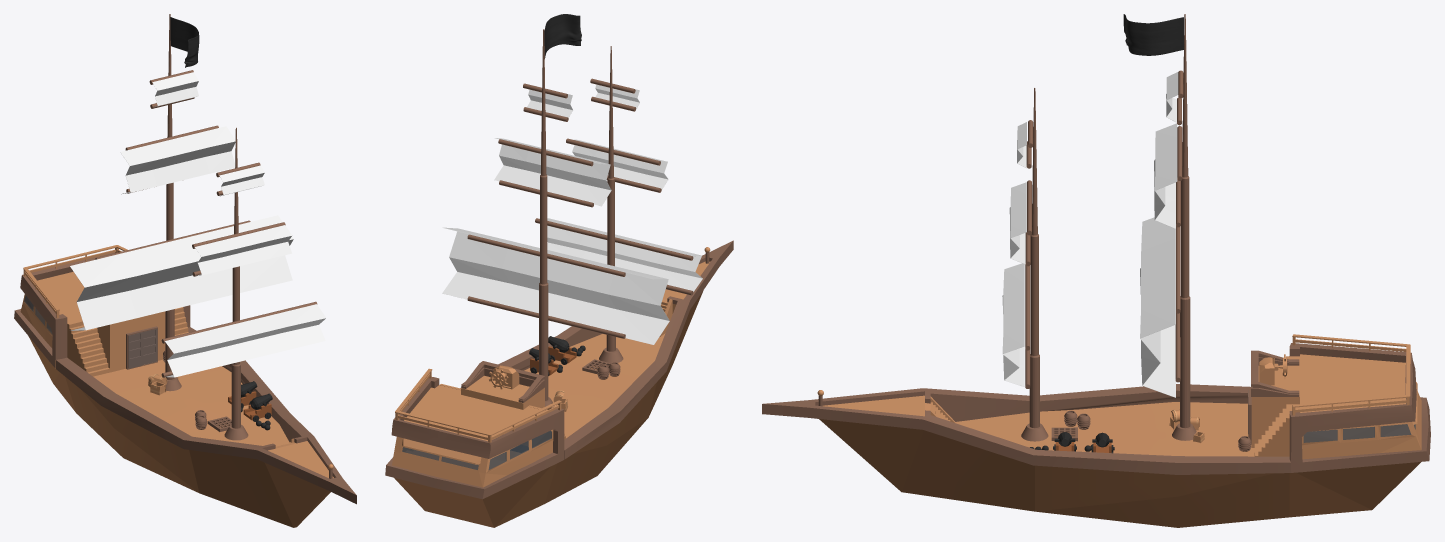
File: Pirateship_folded.fbx
3 renders of one model, left to right at view 1: azimuth 30°, elevation 25°; view 2: azimuth 150°, elevation 25°; view 3: azimuth 270°, elevation 25°, orthographic. The views are drawn at different scales.
Visible parts, largest first — view 1: Pirate Ship, Plane003.001, Plane003, Plane002.001, Plane002, Cylinder001, StraightStair001, Cylinder001.001, Plane001.001, Plane004.001, Plane001, Cabin001 (+4 smaller); view 2: Pirate Ship, Plane003.001, Cabin001, Plane003, Plane002.001, Cylinder001.001, Plane002, Cylinder001, Plane004.001, Wheel, Cylinder002.001, Cylinder005.001 (+8 smaller); view 3: Pirate Ship, Plane003.001, Cabin001, Cylinder001.001, Cylinder001, Plane003, Plane002.001, Plane004.001, Plane002, StraightStair002, Wheel, Railing002 (+1 smaller).
Part boxes in pixels (bbox=[...]): Pirate Ship: bbox=[14, 252, 356, 527]; Plane003.001: bbox=[70, 215, 293, 330]; Plane003: bbox=[165, 304, 325, 377]; Plane002.001: bbox=[120, 126, 235, 194]; Plane002: bbox=[194, 225, 292, 275]; Cylinder001: bbox=[224, 127, 248, 440]; StraightStair001: bbox=[67, 320, 109, 376]; Cylinder001.001: bbox=[165, 14, 181, 391]; Plane001.001: bbox=[152, 72, 198, 107]; Plane004.001: bbox=[170, 17, 199, 67]; Plane001: bbox=[219, 165, 264, 196]; Cabin001: bbox=[20, 294, 52, 348]; Pirate Ship: bbox=[385, 240, 733, 527]; Plane003.001: bbox=[442, 227, 669, 344]; Cabin001: bbox=[392, 429, 553, 487]; Plane003: bbox=[539, 218, 702, 291]; Plane002.001: bbox=[494, 138, 611, 206]; Cylinder001.001: bbox=[539, 29, 552, 406]; Plane002: bbox=[572, 139, 668, 189]; Cylinder001: bbox=[599, 46, 623, 363]; Plane004.001: bbox=[544, 14, 581, 58]; Wheel: bbox=[461, 361, 545, 402]; Cylinder002.001: bbox=[467, 234, 625, 276]; Cylinder005.001: bbox=[467, 296, 625, 338]; Pirate Ship: bbox=[762, 343, 1430, 527]; Plane003.001: bbox=[1140, 217, 1175, 397]; Cabin001: bbox=[1302, 382, 1421, 459]; Cylinder001.001: bbox=[1172, 14, 1196, 440]; Cylinder001: bbox=[1021, 88, 1048, 441]; Plane003: bbox=[1002, 263, 1024, 386]; Plane002.001: bbox=[1154, 123, 1177, 228]; Plane004.001: bbox=[1123, 14, 1183, 55]; Plane002: bbox=[1009, 182, 1026, 264]; StraightStair002: bbox=[1251, 404, 1289, 456]; Wheel: bbox=[1251, 350, 1299, 396]; Railing002: bbox=[1292, 395, 1409, 415].
Size of the model in its own units: 4816 by 9484 by 11835.
